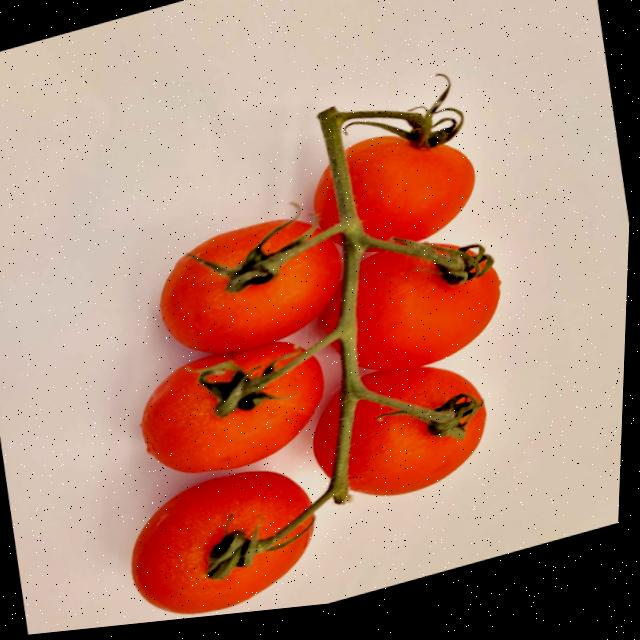ripe2: (131, 471, 314, 614), (140, 342, 323, 473), (159, 240, 341, 352), (356, 251, 500, 369), (347, 135, 474, 240), (348, 401, 486, 495), (362, 367, 480, 413), (191, 219, 286, 269), (313, 395, 339, 475), (262, 219, 310, 253), (313, 167, 336, 226)
